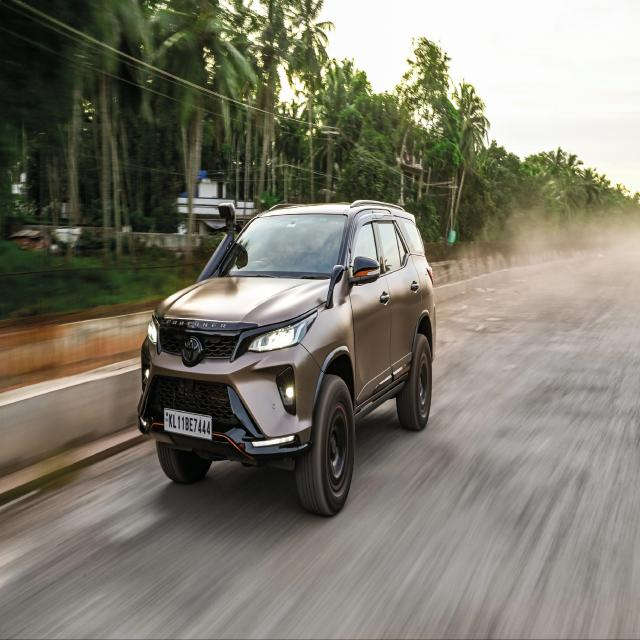light_vehicle: (137, 199, 437, 518)
